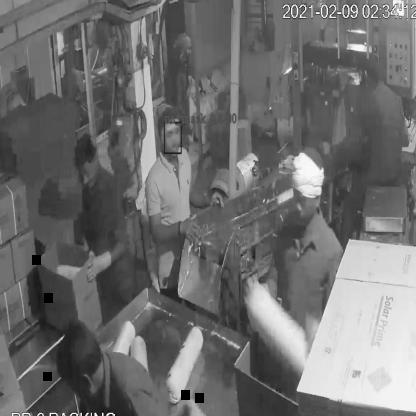glove: (70, 243, 117, 288)
no_glove: (144, 196, 203, 259), (183, 179, 224, 218)
